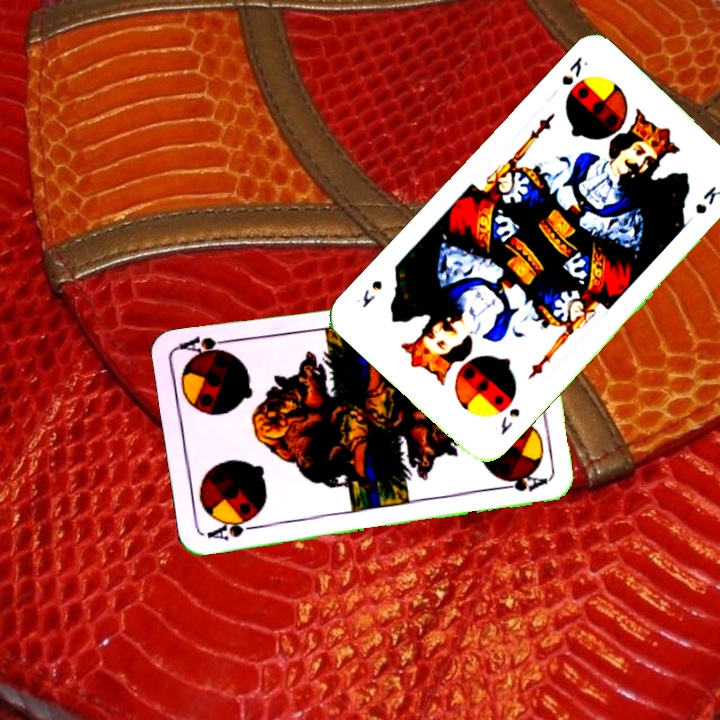SA: (203, 512, 262, 544)
SK: (557, 52, 591, 88), (496, 404, 523, 438)
